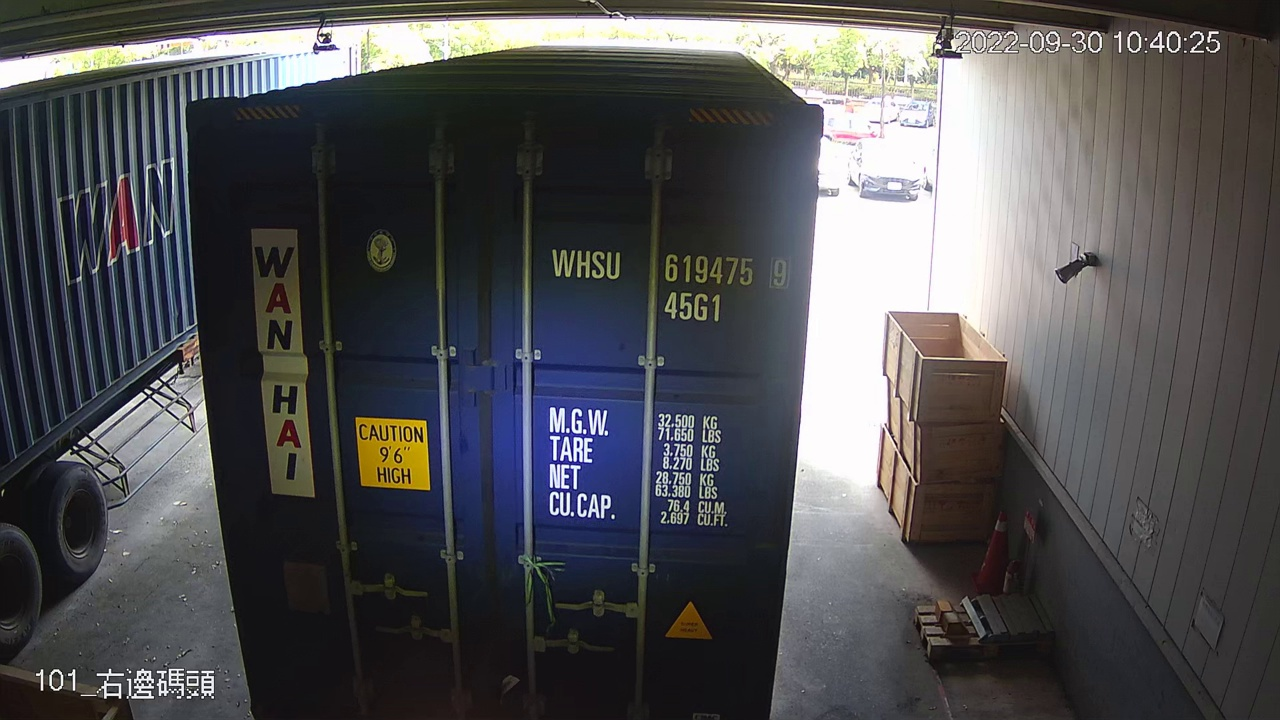container: (545, 240, 796, 328)
